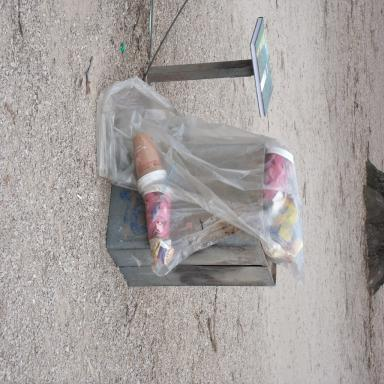plasticbag: (94, 73, 304, 285)
